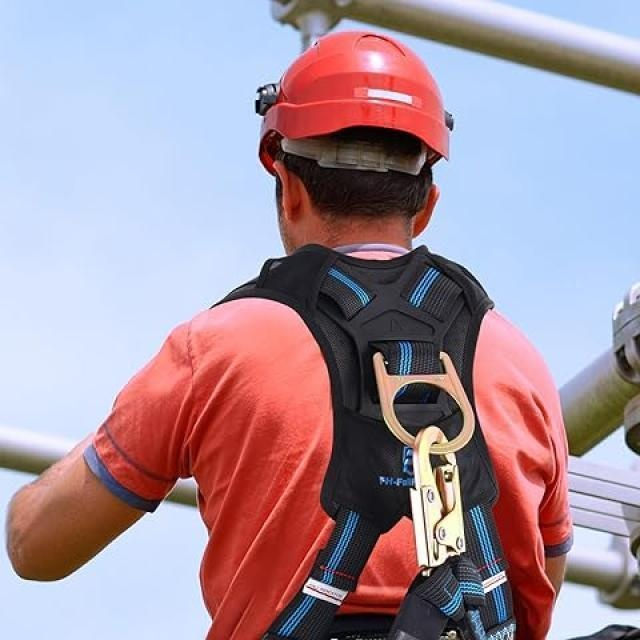Arnes_seguridad: (258, 224, 503, 640)
